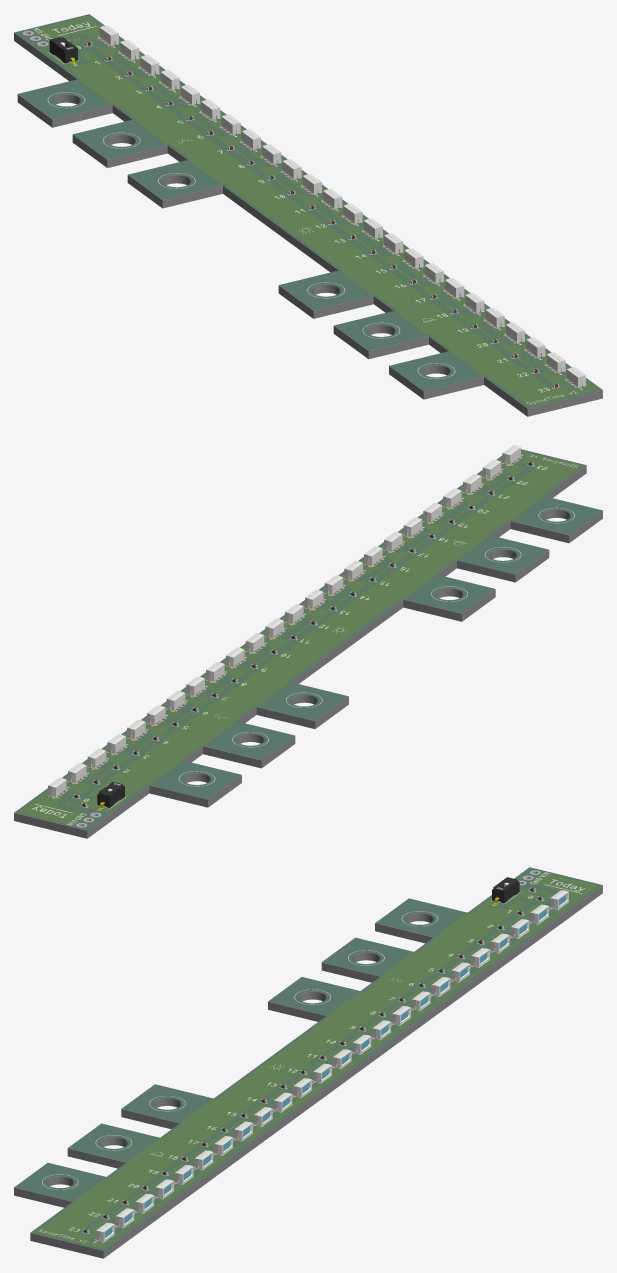
The model's file is bookmark.gltf.
3 renders of one model, top to bottom at view 1: azimuth 30°, elevation 25°; view 2: azimuth 150°, elevation 25°; view 3: azimuth 330°, elevation 25°, orthographic. The views are drawn at different scales.
Parts seen in each view (by area): view 1: project_soldermask, project_PCB, project_copper, project_soldermask001, CHS-01-G-body; view 2: project_soldermask, project_PCB, project_copper, project_soldermask001, CHS-01-G-body; view 3: project_soldermask, project_PCB, project_copper, project_soldermask001, CHS-01-G-body.
Part boxes in pixels (box(x1,y1,x2,y2)): project_soldermask: box(14, 14, 602, 408); project_PCB: box(14, 15, 602, 416); project_copper: box(34, 16, 597, 406); project_soldermask001: box(14, 41, 602, 416); CHS-01-G-body: box(49, 37, 77, 65); project_soldermask: box(14, 449, 602, 830); project_PCB: box(14, 450, 602, 838); project_copper: box(19, 451, 580, 825); project_soldermask001: box(14, 474, 601, 838); CHS-01-G-body: box(97, 782, 124, 809); project_soldermask: box(14, 867, 602, 1250); project_PCB: box(14, 868, 602, 1258); project_copper: box(35, 874, 597, 1248); project_soldermask001: box(15, 893, 602, 1258); CHS-01-G-body: box(492, 877, 519, 904).
Bounding box in the file's own units: 0.027 × 0.00409 × 0.177.
